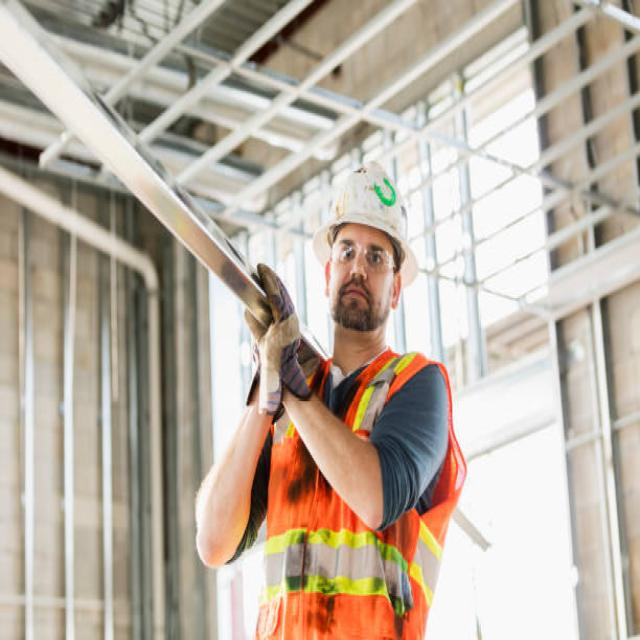gloves: (244, 260, 312, 416)
